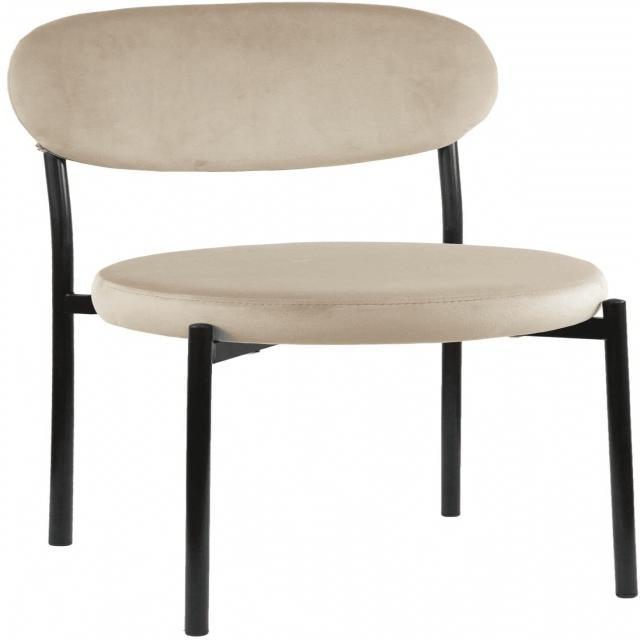chair: (0, 0, 638, 637), (9, 2, 611, 337)
